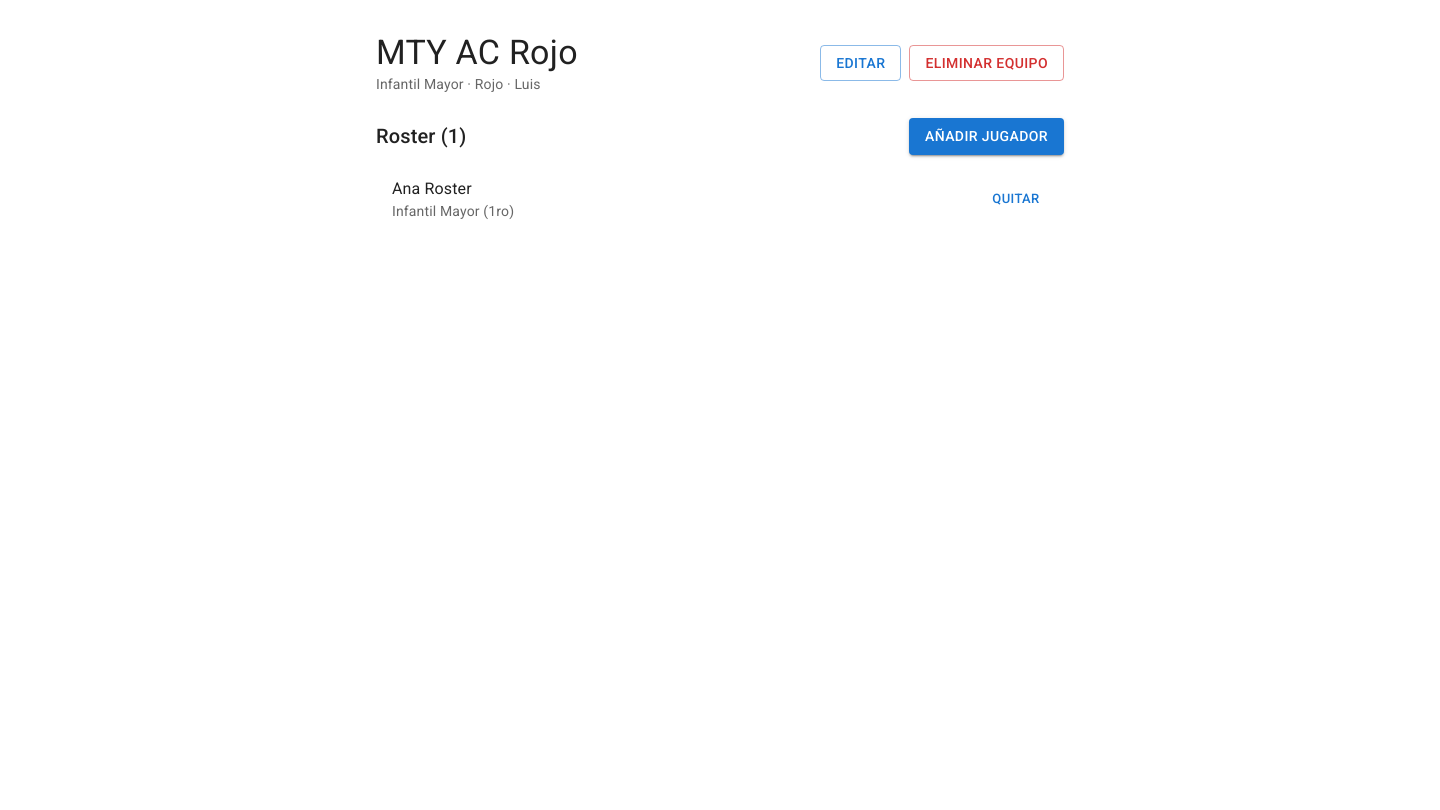
Test: a failed removal shows its error and still reloads a concurrently changed roster
Expected: the text "Ana Roster" is shown, x1=392 y1=178 x2=472 y2=198
Click the button "Quitar": (1016, 198) x1=984 y1=183 x2=1048 y2=214
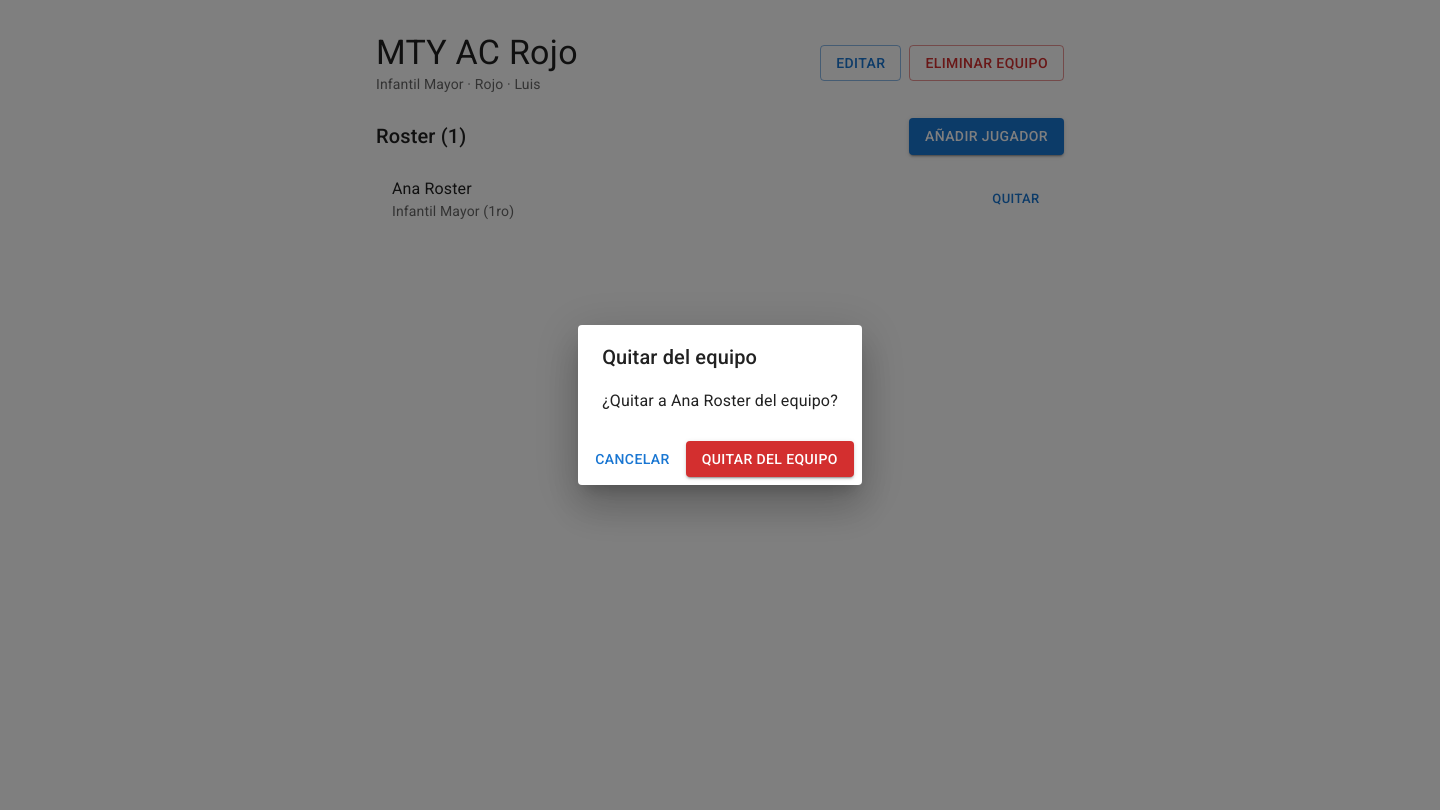
Click the button "Quitar del equipo": (770, 459) x1=686 y1=441 x2=854 y2=477
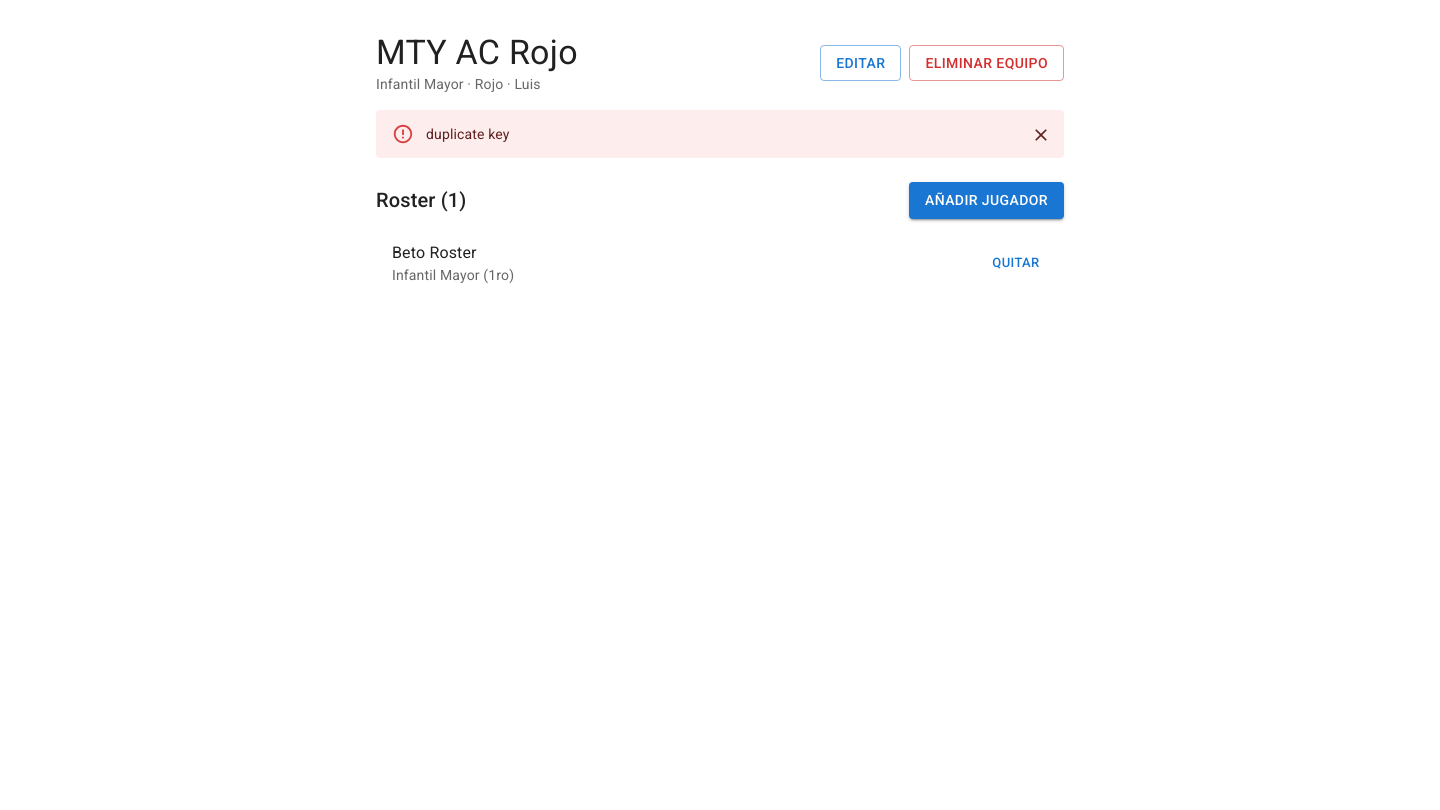
Expected: the text "duplicate key" is shown, x1=426 y1=126 x2=510 y2=142
Expected: the text "Beto Roster" is shown, x1=392 y1=242 x2=477 y2=262
Expected: the text "Ana Roster" is gone
